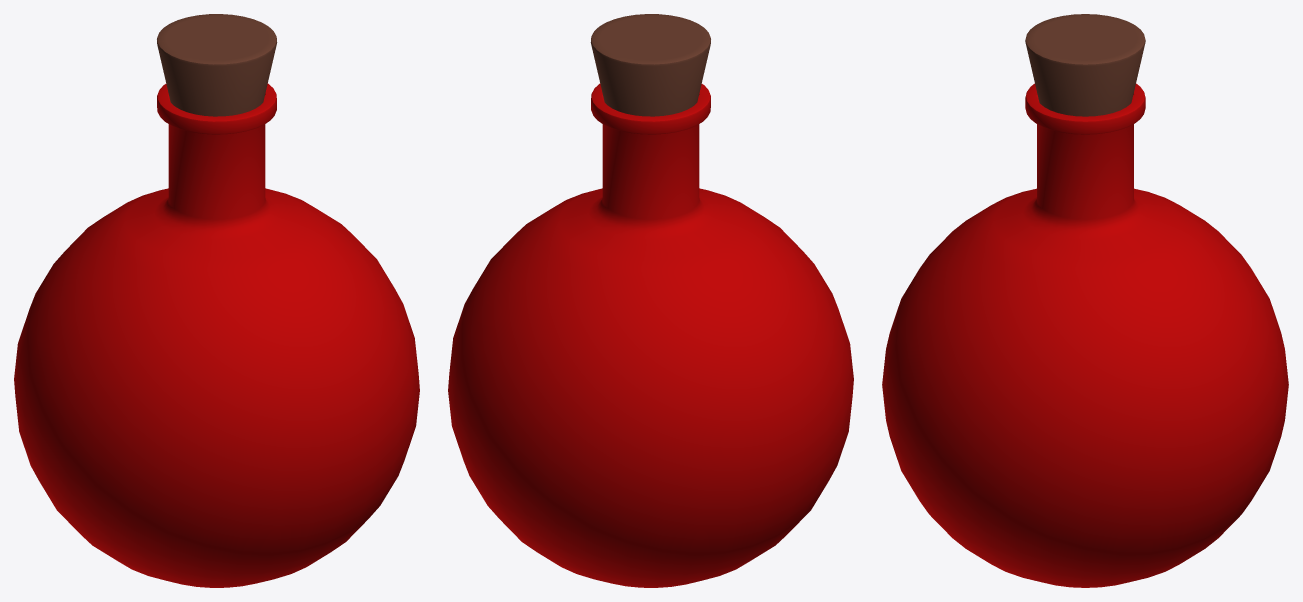
The model's file is Potion.fbx.
3 renders of one model, left to right at view 1: azimuth 30°, elevation 25°; view 2: azimuth 150°, elevation 25°; view 3: azimuth 270°, elevation 25°, orthographic.
Visible parts, largest first — view 1: Potion; view 2: Potion; view 3: Potion.
Boxes of the visible parts, <box> form: Potion: <box>14,14,419,587</box>; Potion: <box>448,14,853,587</box>; Potion: <box>882,14,1288,587</box>.
Size of the model in its own units: 164 by 236 by 164.
